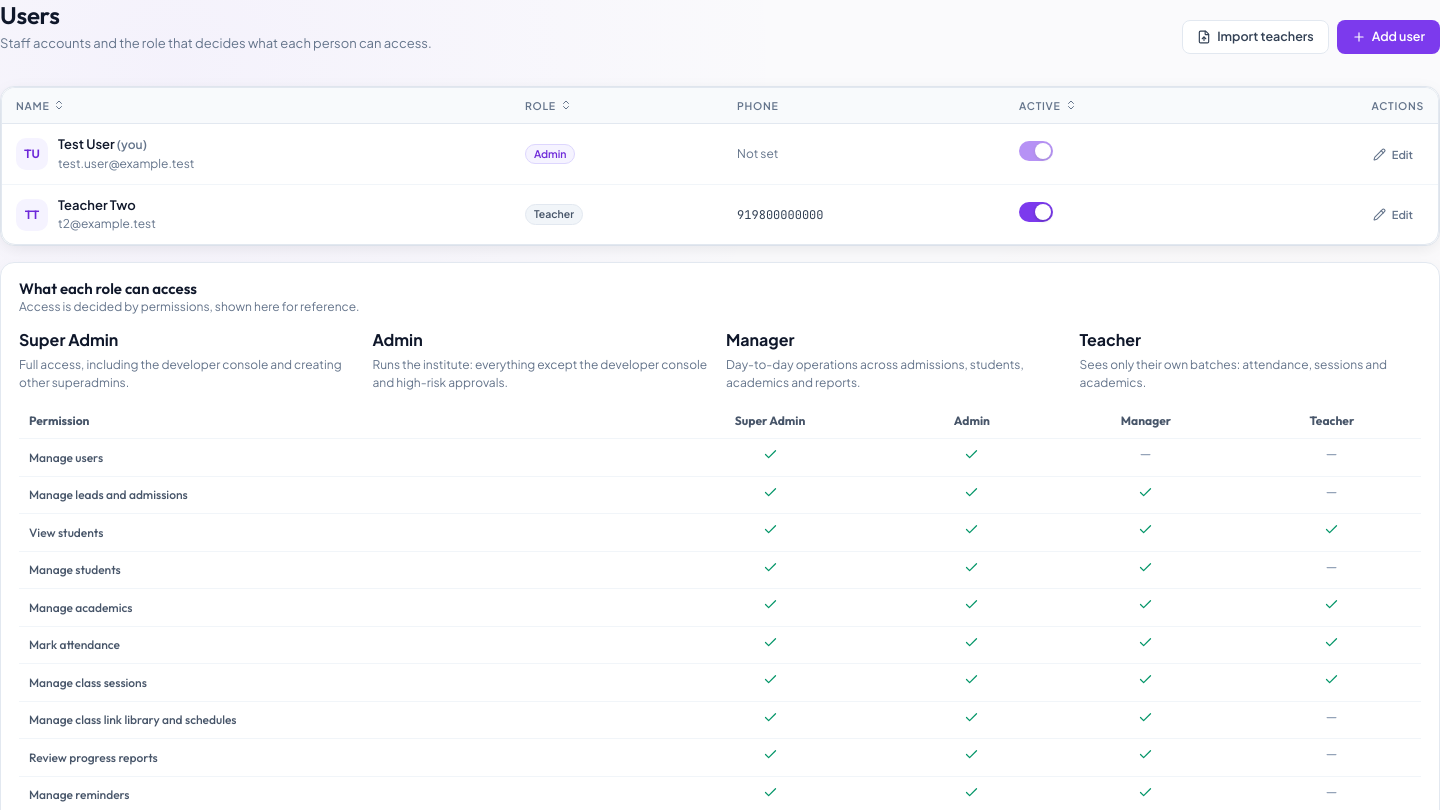
Test: UsersView › edits a user sending only changed fields
Check: the text "Teacher Two" is shown, box x1=58 y1=197 x2=136 y2=213
Click the button with aria-label "Edit Teacher Two". click: (1393, 214)
box: x1=1362 y1=202 x2=1424 y2=228
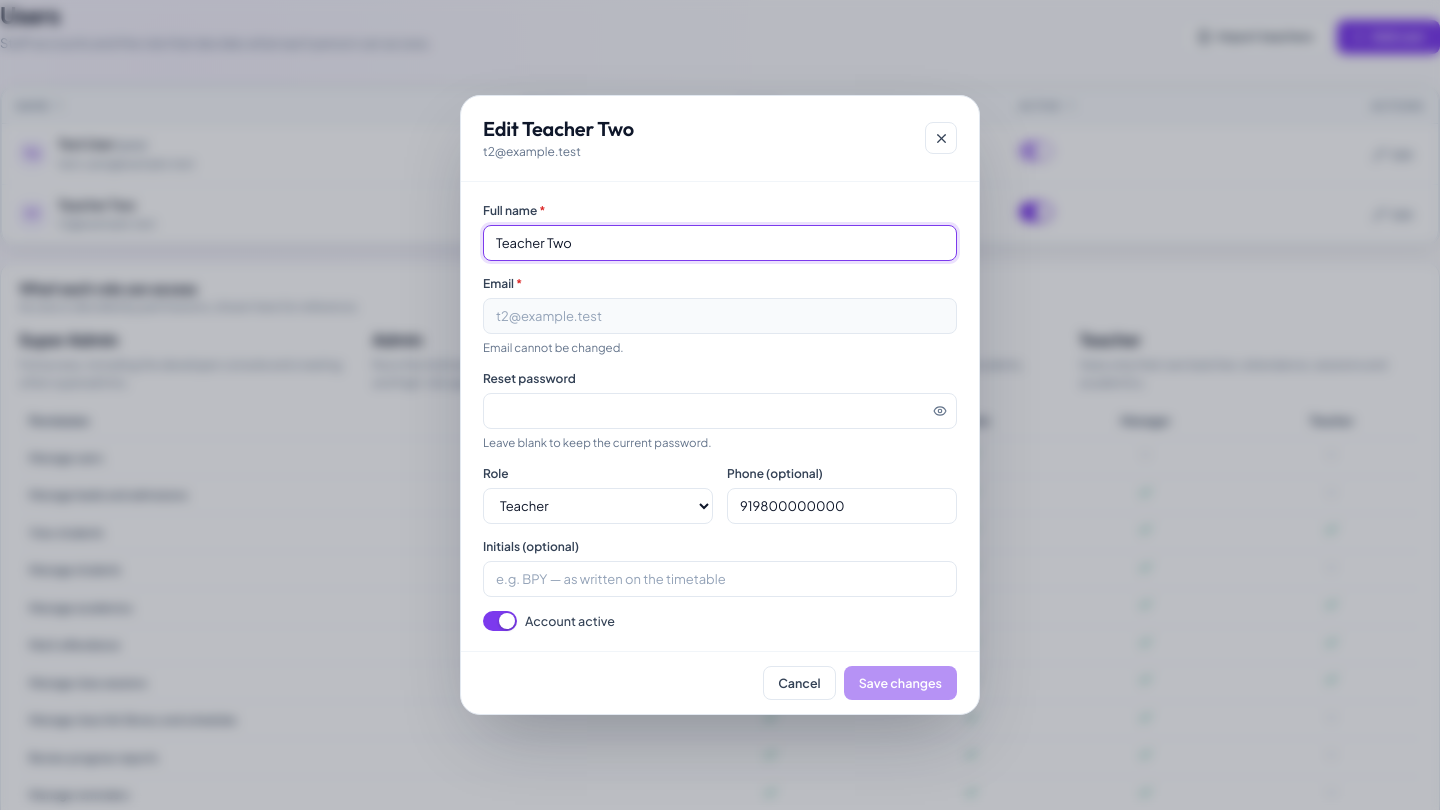
Select "Manager" in the dropdown labelled "Role". click: (598, 506)
box: x1=483 y1=488 x2=713 y2=524
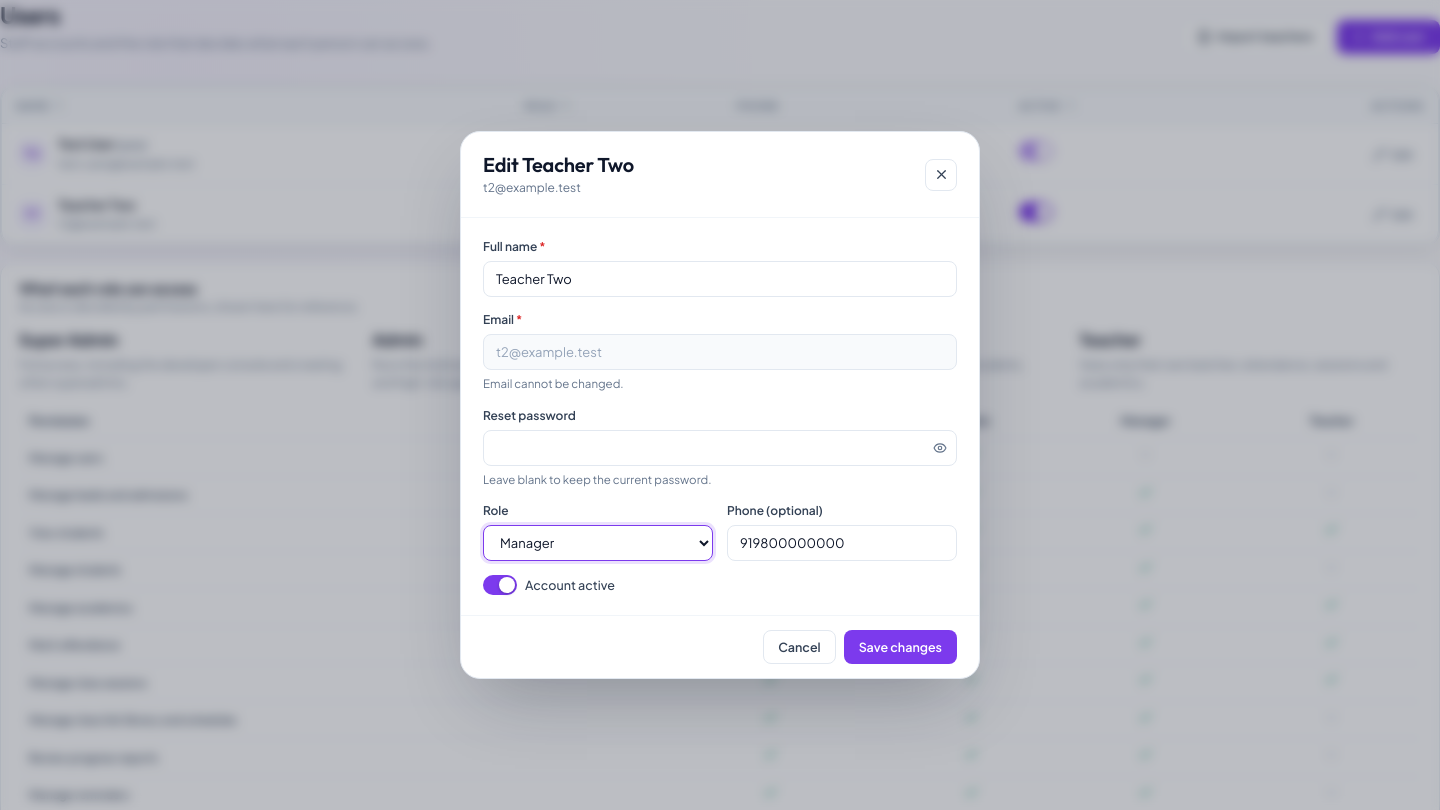
Type "newPassw0rd" into the password field labelled "Reset password". click: (720, 448)
box: x1=483 y1=430 x2=957 y2=466
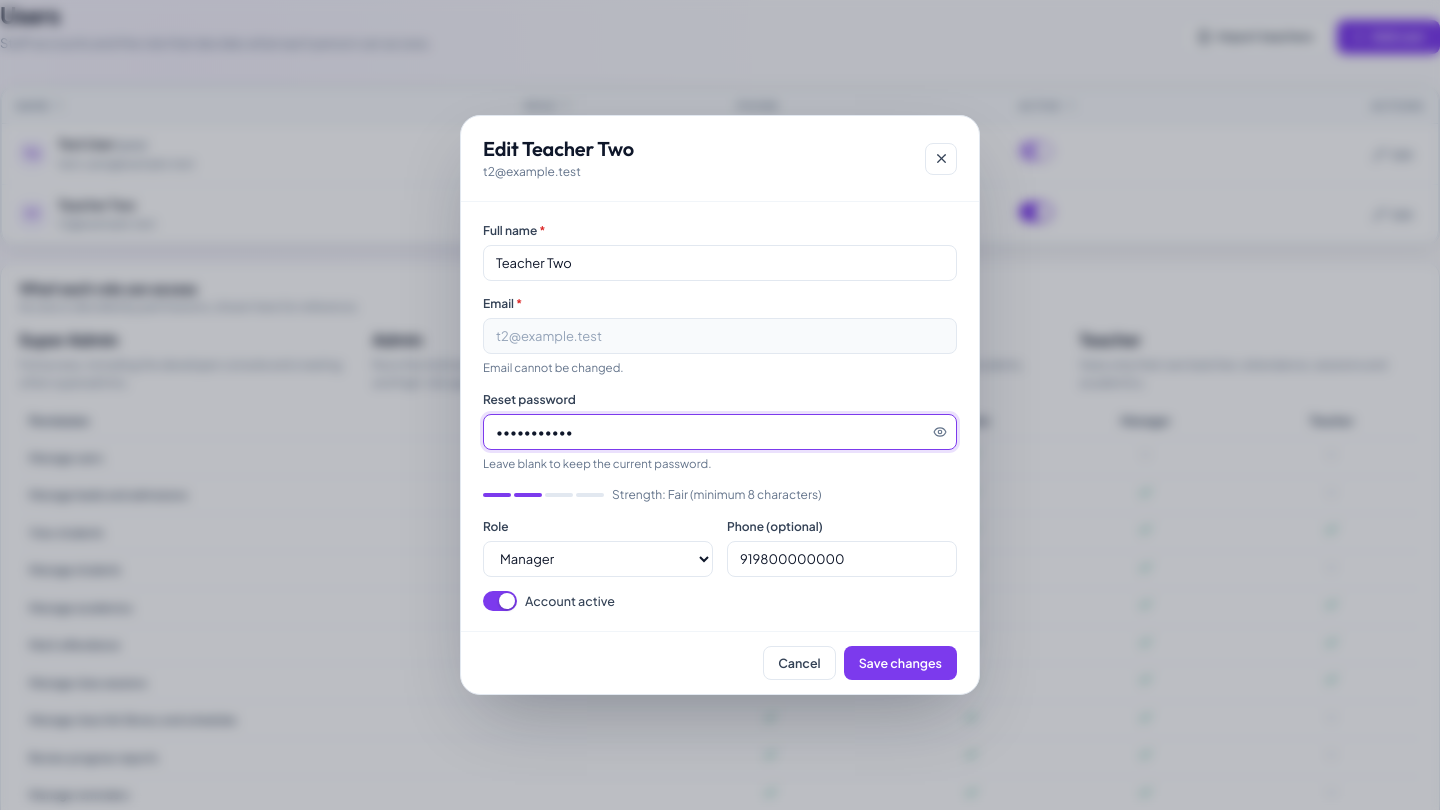
Click the button "Save changes". click: (900, 663)
box: x1=844 y1=646 x2=957 y2=680
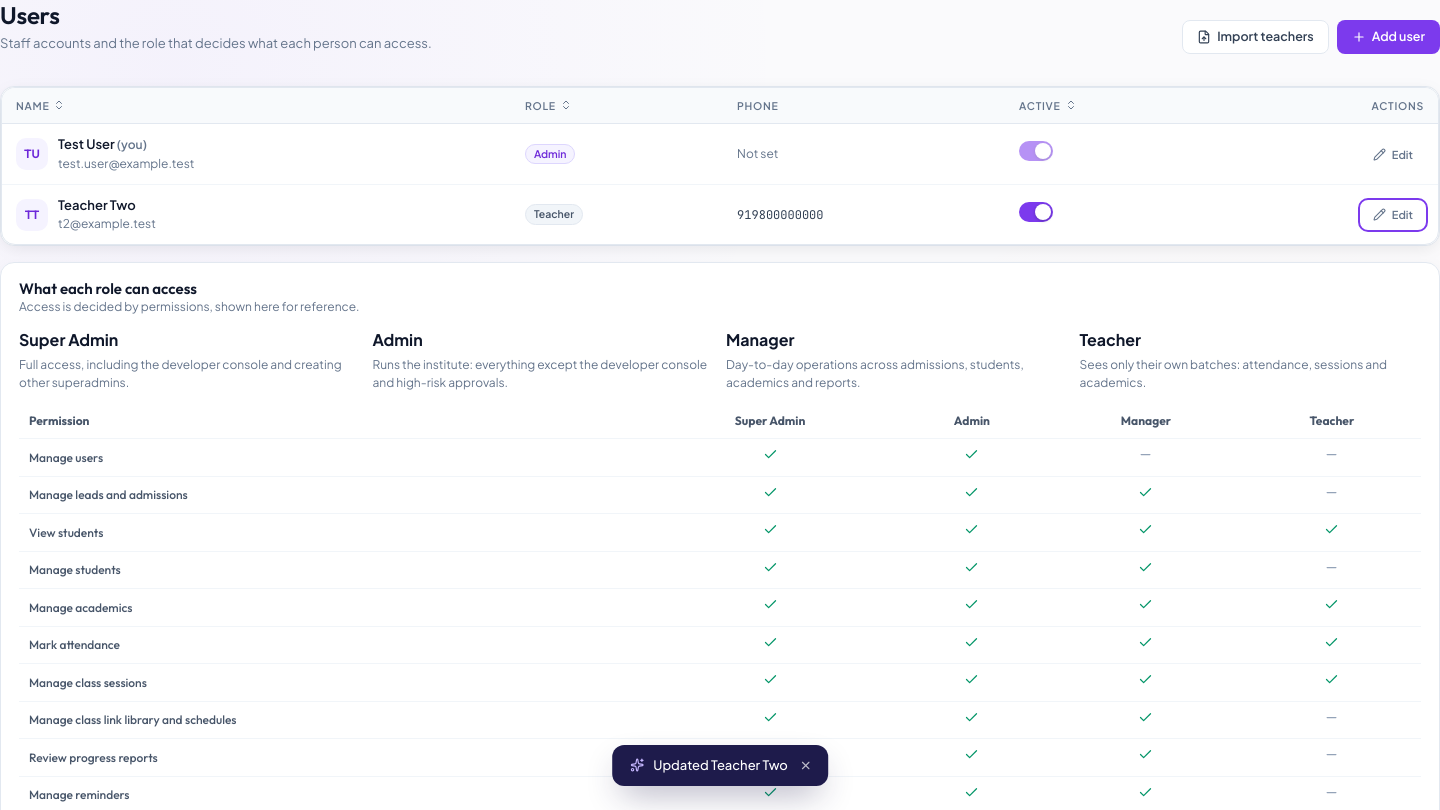
Check: the text "Updated Teacher Two" is shown, box x1=612 y1=744 x2=828 y2=786
